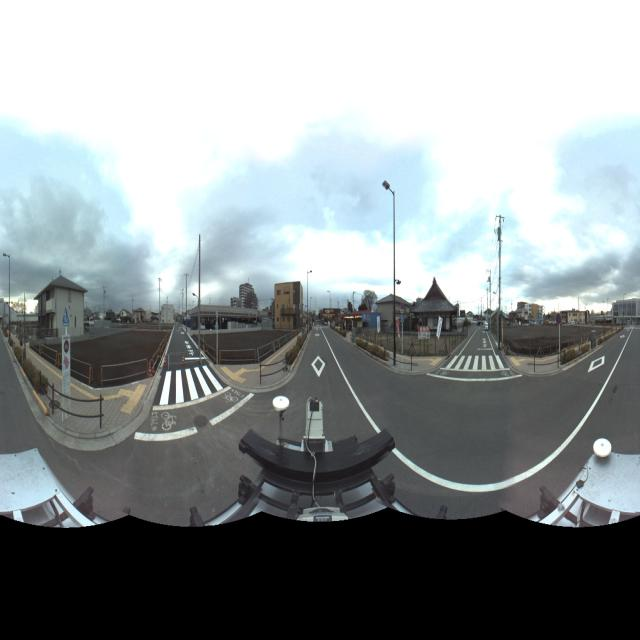b_1: (36, 268, 90, 346), (410, 272, 458, 346), (269, 274, 309, 336), (374, 286, 415, 335), (230, 274, 261, 317), (560, 298, 596, 334), (514, 294, 545, 333), (610, 293, 640, 332)
